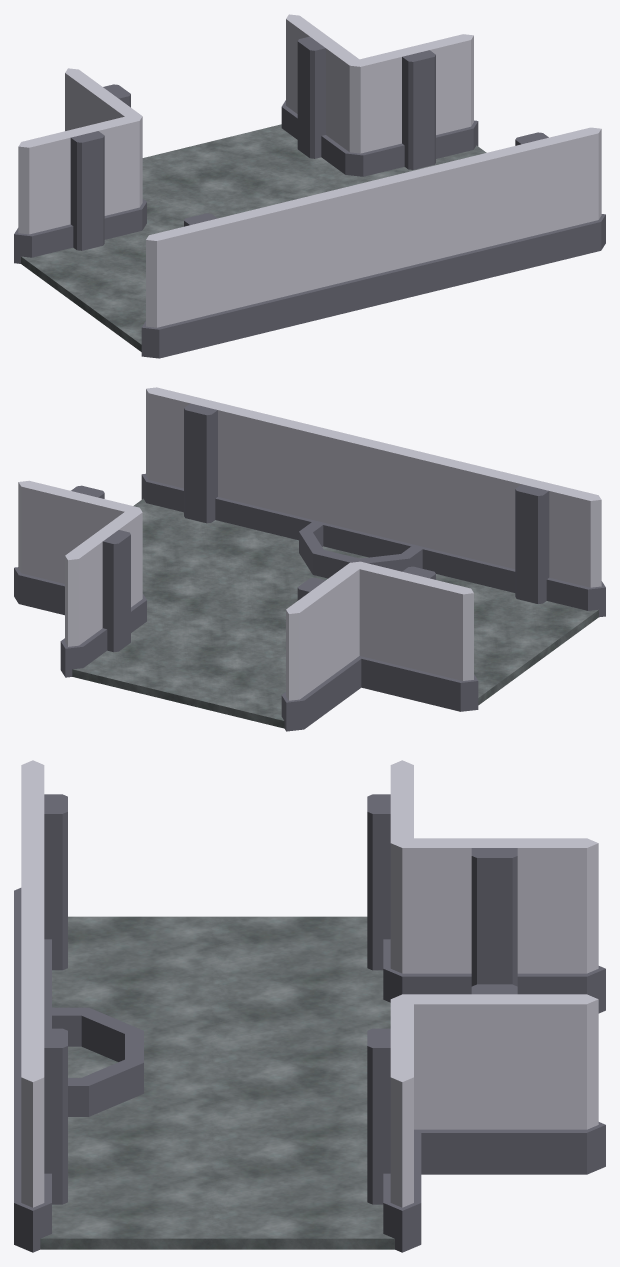
Rendered from intersection_3way_02.fbx.
3 renders of one model, top to bottom at view 1: azimuth 30°, elevation 25°; view 2: azimuth 150°, elevation 25°; view 3: azimuth 270°, elevation 25°, orthographic. The views are drawn at different scales.
Visible parts, largest first — view 1: wall_02_22, wall_02_18, wall_02_21, wall_02_23, wall_01_24, wall_01_25, floor_04_15, wall_02_19, floor_04_14, wall_02_20, floor_01_12, floor_04_13; view 2: wall_02_21, wall_02_22, wall_02_23, floor_01_12, floor_04_15, wall_01_24, wall_01_25, wall_02_20, wall_02_19, wall_02_18, floor_04_14, floor_04_13 (+1 smaller); view 3: floor_01_12, wall_02_19, wall_02_20, floor_04_13, floor_04_14, wall_02_18, wall_02_23, wall_02_22, fountain_01_27, wall_02_21, wall_01_25, wall_01_24.
Boxes of the visible parts, bbox=[...] form: wall_02_22: bbox=[141, 208, 271, 358]; wall_02_18: bbox=[345, 34, 478, 176]; wall_02_21: bbox=[14, 115, 142, 263]; wall_02_23: bbox=[477, 127, 605, 277]; wall_01_24: bbox=[367, 154, 490, 304]; wall_01_25: bbox=[258, 181, 381, 331]; floor_04_15: bbox=[142, 124, 340, 221]; wall_02_19: bbox=[281, 14, 363, 174]; floor_04_14: bbox=[21, 226, 154, 351]; wall_02_20: bbox=[65, 68, 146, 229]; floor_01_12: bbox=[143, 172, 375, 239]; floor_04_13: bbox=[359, 145, 486, 181]; wall_02_21: bbox=[350, 561, 478, 711]; wall_02_22: bbox=[476, 468, 605, 617]; wall_02_23: bbox=[141, 387, 269, 529]; floor_01_12: bbox=[143, 528, 483, 651]; floor_04_15: bbox=[72, 618, 285, 728]; wall_01_24: bbox=[255, 414, 380, 556]; wall_01_25: bbox=[366, 441, 489, 583]; wall_02_20: bbox=[281, 561, 363, 731]; wall_02_19: bbox=[60, 511, 146, 677]; wall_02_18: bbox=[14, 480, 146, 615]; floor_04_14: bbox=[474, 585, 598, 705]; floor_04_13: bbox=[133, 498, 262, 603]; floor_01_12: bbox=[52, 999, 390, 1160]; wall_02_19: bbox=[391, 984, 605, 1174]; wall_02_20: bbox=[383, 838, 605, 1013]; floor_04_13: bbox=[40, 1151, 394, 1249]; floor_04_14: bbox=[52, 916, 390, 1004]; wall_02_18: bbox=[367, 994, 421, 1252]; wall_02_23: bbox=[14, 994, 67, 1252]; wall_02_22: bbox=[14, 760, 67, 971]; fountain_01_27: bbox=[44, 1007, 143, 1116]; wall_02_21: bbox=[367, 760, 413, 976]; wall_01_25: bbox=[14, 842, 51, 1049]; wall_01_24: bbox=[14, 916, 44, 1127].
Size of the model in its own units: 42.05 by 10 by 32.05.
